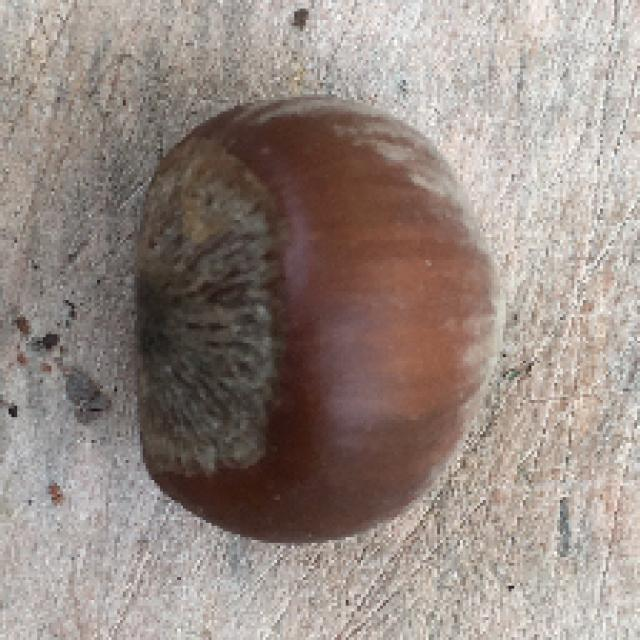damagedHazelnut: (130, 91, 506, 550)
